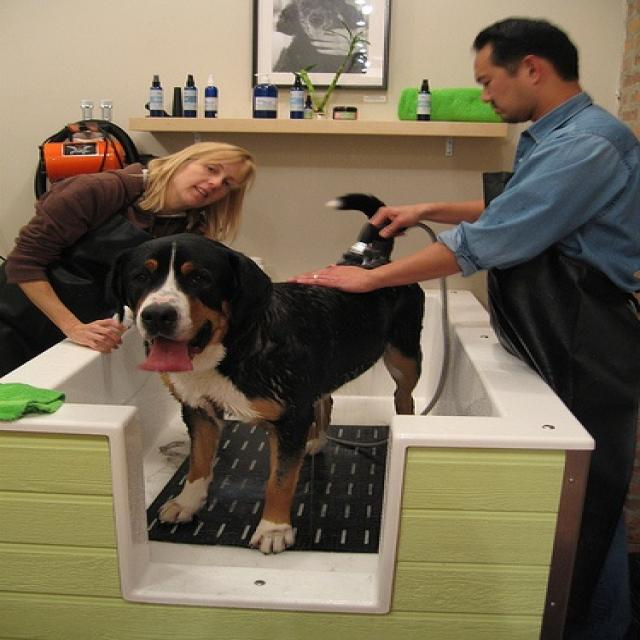bottle: (252, 73, 276, 116), (416, 76, 434, 122), (148, 75, 164, 114), (292, 76, 304, 120), (186, 76, 198, 116), (208, 77, 217, 115)
dog: (114, 195, 427, 553)
